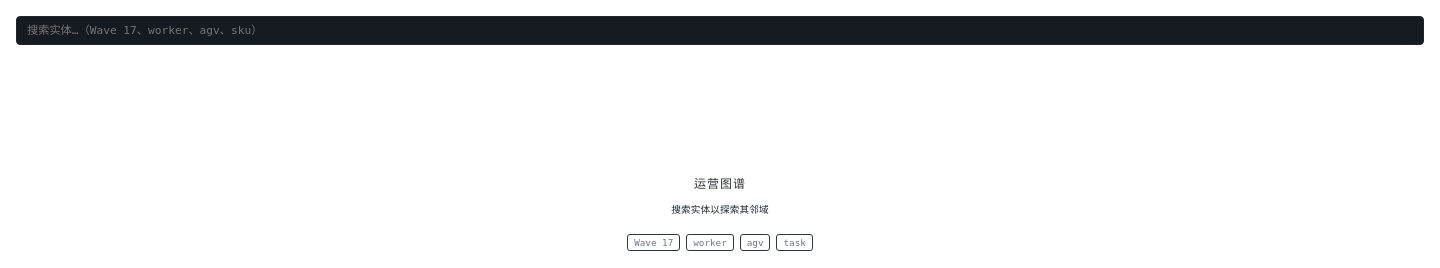
Test: Phase 17C — World Graph Explorer › shows error state when neighborhood API fails
Type "Wave 17" into the field with test id "graph-search-input" at [720, 30], box [16, 16, 1424, 45]
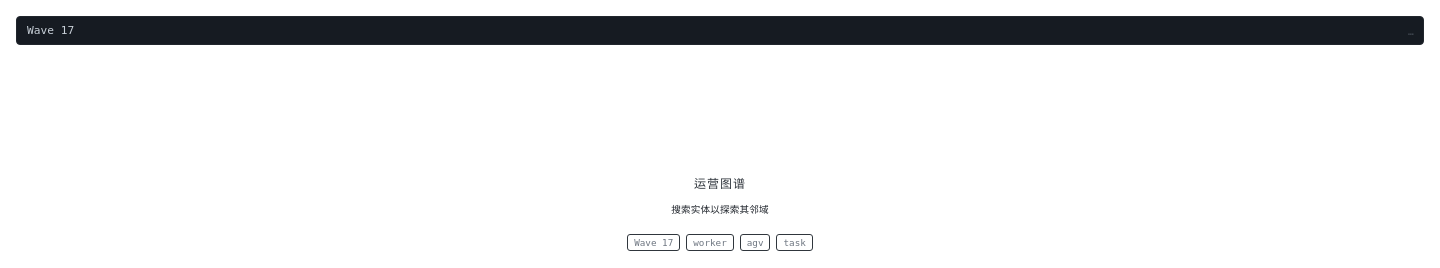
Focus the field with test id "graph-search-input" at [720, 30], box [16, 16, 1424, 45]
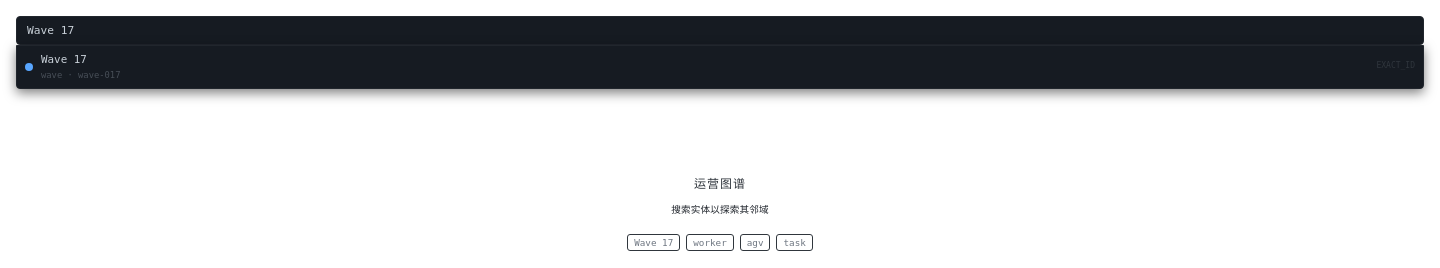
Now the button with test id "search-result-item" is shown
Click the button with test id "search-result-item" at [64, 60], box [17, 46, 1423, 88]
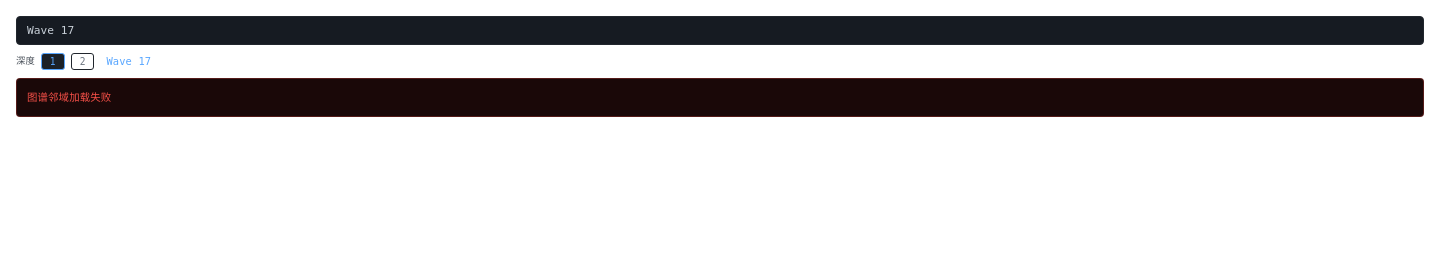
Now the element with test id "graph-error-state" is shown, box [16, 78, 1424, 117]
